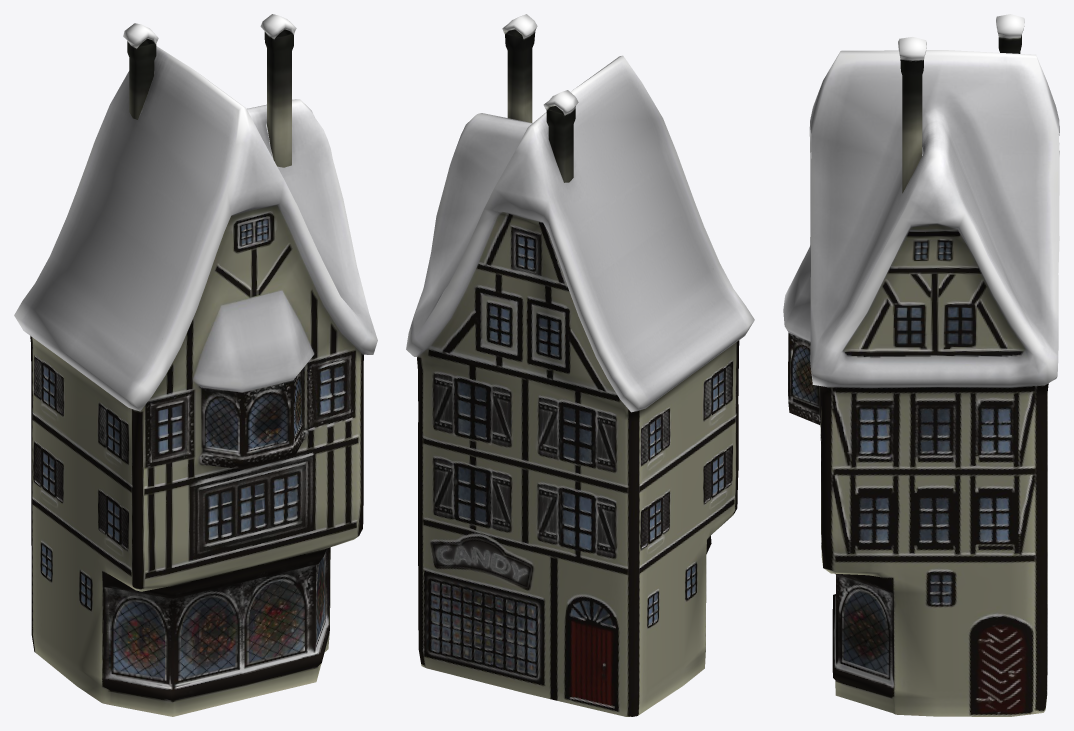
Rendered from House-3.FBX.
3 views of the same model, side by side, from view 1: azimuth 30°, elevation 25°; view 2: azimuth 150°, elevation 25°; view 3: azimuth 270°, elevation 25° (orthographic). The views are drawn at different scales.
Visible parts, largest first — view 1: House-3; view 2: House-3; view 3: House-3.
Part boxes in pixels (x1,y1,x2,y2): House-3: [14, 14, 377, 716]; House-3: [406, 14, 754, 716]; House-3: [783, 14, 1059, 716].
Size of the model in its own units: 19.97 by 49.08 by 18.66.
1 material, 1 textured.
